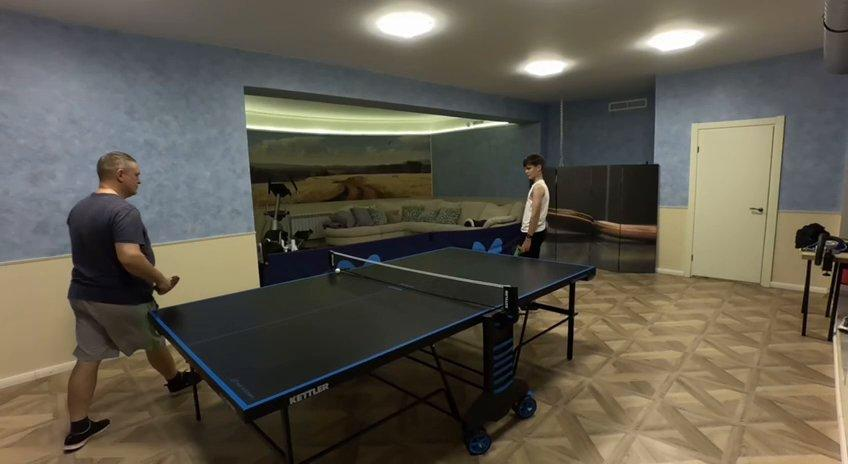Ball: (334, 268, 343, 276)
Net: (329, 250, 518, 319)
Player1: (514, 154, 550, 257)
Player2: (68, 151, 181, 448)
Table: (150, 246, 594, 411)
